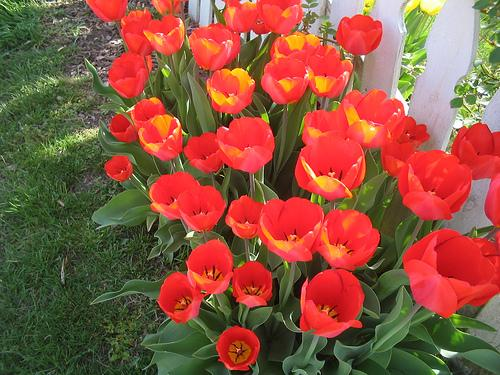tulip: (404, 227, 500, 317), (398, 149, 473, 220), (292, 132, 367, 199), (300, 266, 365, 337), (260, 198, 322, 262), (338, 88, 406, 146), (319, 208, 382, 268), (216, 115, 276, 171), (453, 122, 500, 179), (188, 20, 241, 70), (186, 236, 233, 292), (309, 44, 354, 99), (261, 55, 309, 106), (177, 184, 224, 232), (135, 113, 184, 159), (157, 272, 201, 321), (208, 67, 254, 113), (215, 326, 261, 371), (334, 15, 384, 56), (107, 53, 149, 97), (232, 261, 273, 306), (144, 14, 185, 55), (105, 155, 132, 182)
